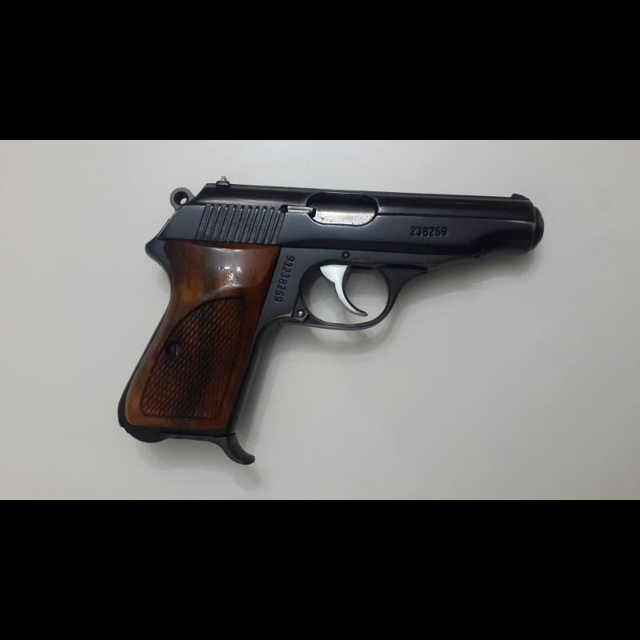SILAH: (110, 168, 555, 467)
